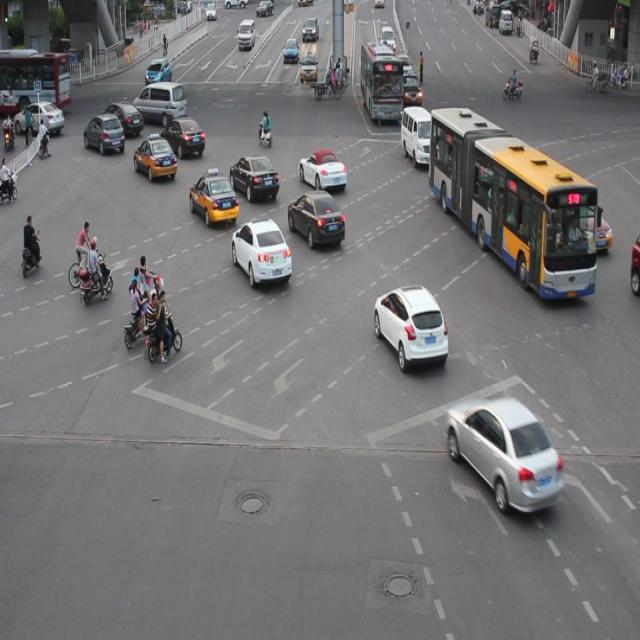car: (446, 392, 562, 511), (373, 282, 447, 366), (230, 216, 291, 286), (287, 190, 345, 248), (189, 173, 238, 225), (230, 153, 280, 201), (134, 136, 178, 182), (298, 150, 346, 191), (159, 117, 205, 158), (84, 113, 127, 155), (578, 203, 610, 250), (103, 101, 143, 136)
truck: (130, 82, 187, 125), (400, 106, 437, 164)
van: (430, 108, 594, 300)
